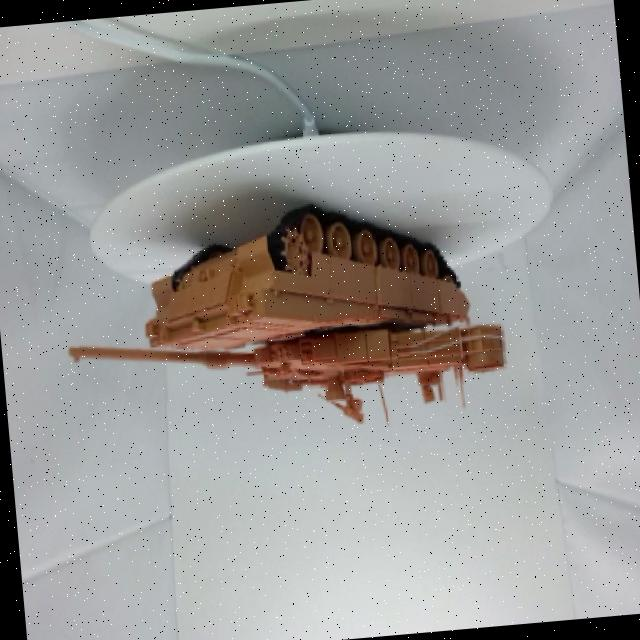korea tank: (31, 178, 527, 467)
